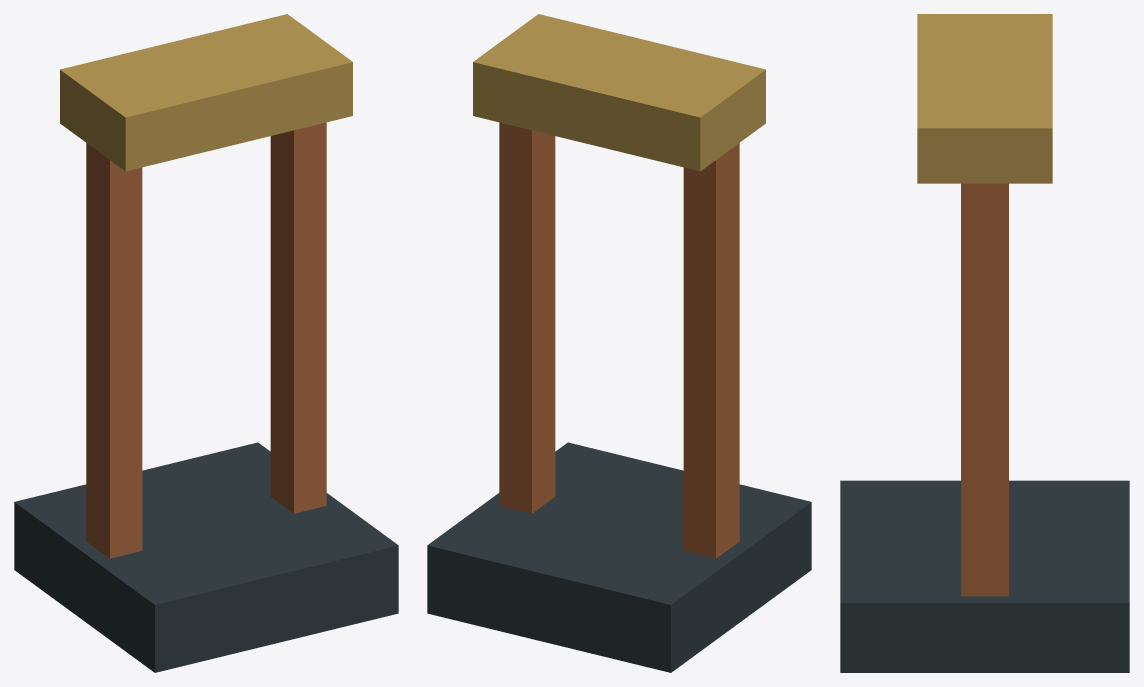
File: drill-lod2.dc4992b96676.glb
3 views of the same model, side by side, from view 1: azimuth 30°, elevation 25°; view 2: azimuth 150°, elevation 25°; view 3: azimuth 270°, elevation 25° (orthographic). The views are drawn at different scales.
Visible parts, largest first — view 1: body; view 2: body; view 3: body.
Part boxes in pixels (x1=…): body: x1=14, y1=14, x2=398, y2=672; body: x1=427, y1=14, x2=811, y2=672; body: x1=840, y1=14, x2=1129, y2=672.
Size of the model in its own units: 0.9 by 1.86 by 0.9.
